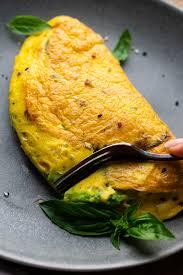omelette: (14, 28, 181, 222)
